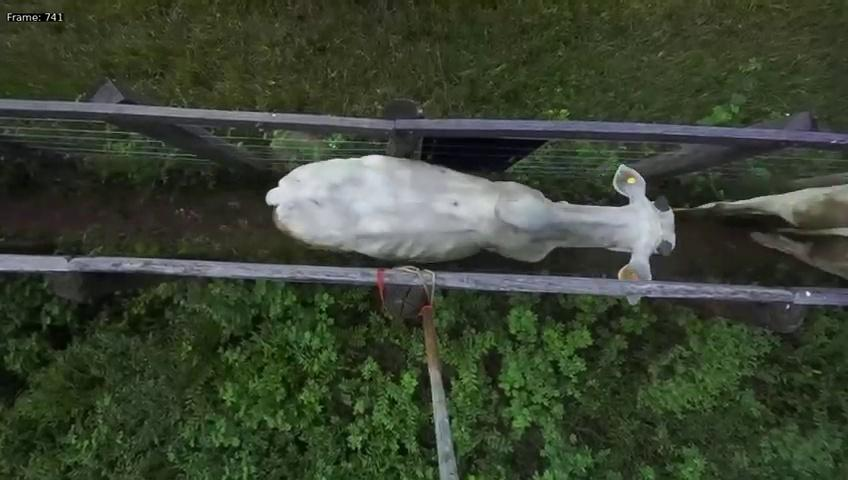cattle: (261, 145, 678, 280)
